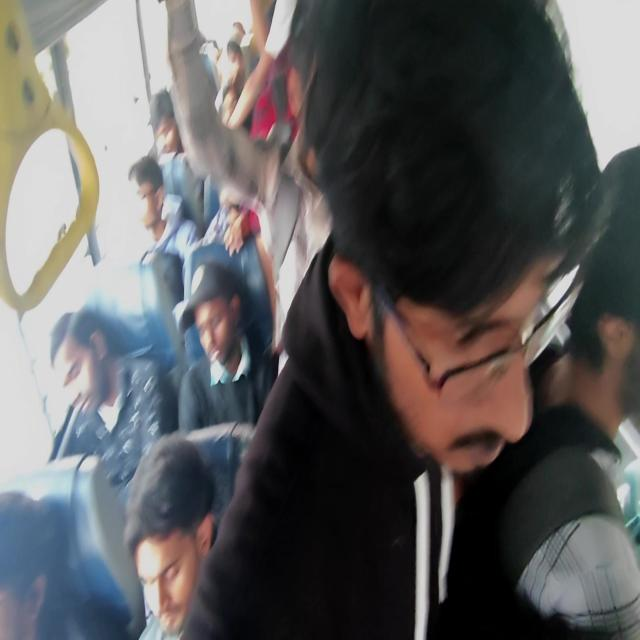person: (175, 0, 604, 638), (440, 143, 640, 638), (48, 298, 177, 496), (176, 235, 278, 433), (123, 432, 217, 638), (128, 153, 204, 306), (147, 88, 184, 160)
